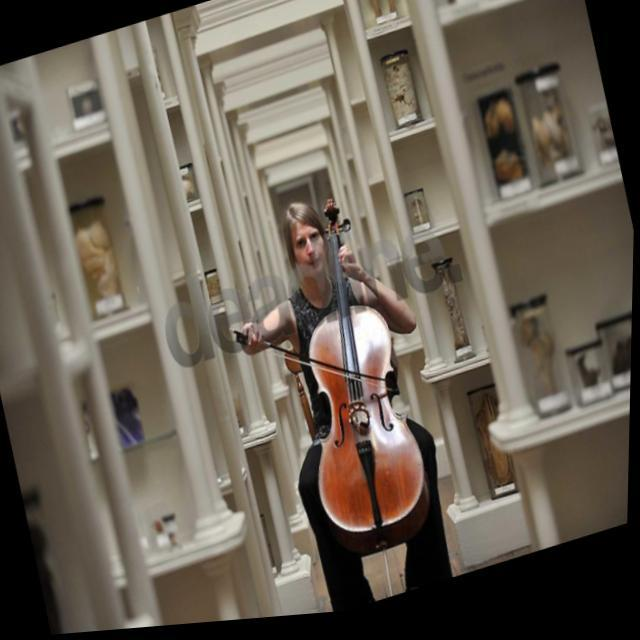Nonhelmet: (277, 196, 338, 287)
